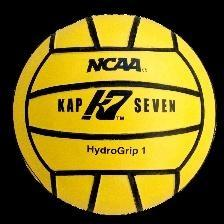Sports-Ball: (13, 16, 218, 218)
